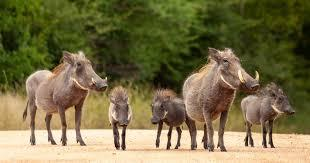wildboar: (20, 48, 110, 146), (180, 45, 262, 152), (239, 81, 297, 148), (148, 87, 192, 150), (107, 84, 133, 151)
